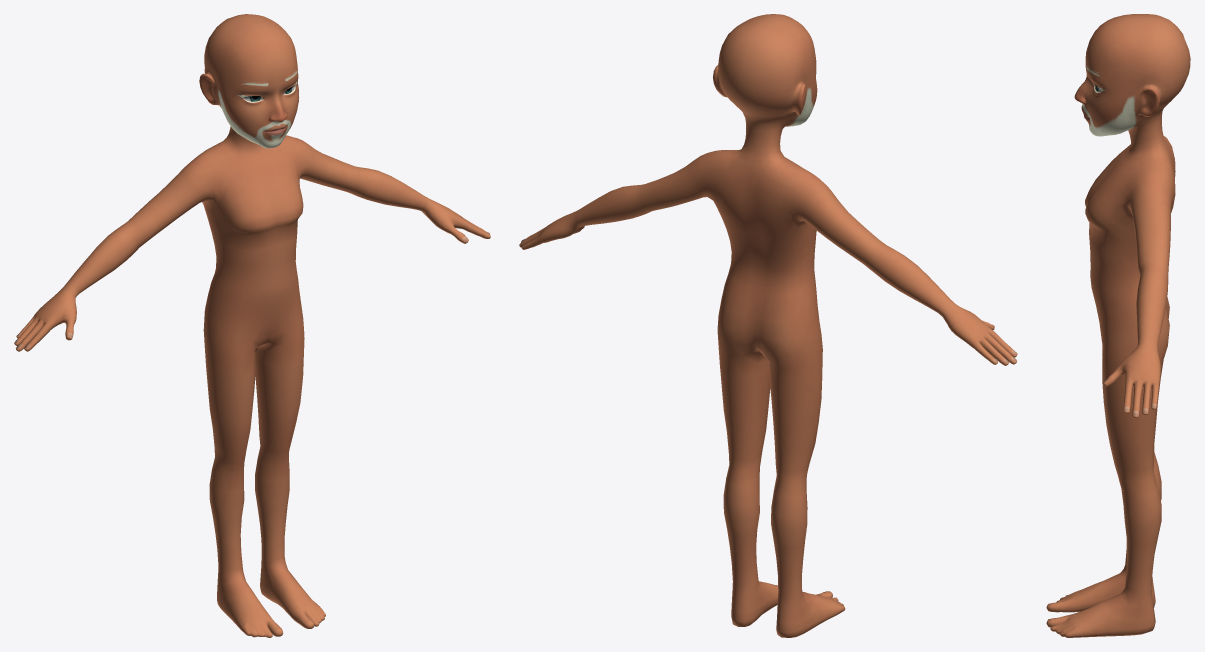
The model's file is frame_0089.glb.
3 views of the same model, side by side, from view 1: azimuth 30°, elevation 25°; view 2: azimuth 150°, elevation 25°; view 3: azimuth 270°, elevation 25° (orthographic). The views are drawn at different scales.
Parts seen in each view (by area): view 1: frame_0089_head_geo; view 2: frame_0089_head_geo; view 3: frame_0089_head_geo.
Boxes of the visible parts, x1,y1,x2,y2 form: frame_0089_head_geo: (14, 14, 490, 637); frame_0089_head_geo: (519, 14, 1017, 637); frame_0089_head_geo: (1046, 14, 1190, 637).
Bounding box in the file's own units: 1.28 × 1.5 × 0.3253.
3 materials, 3 textured.
